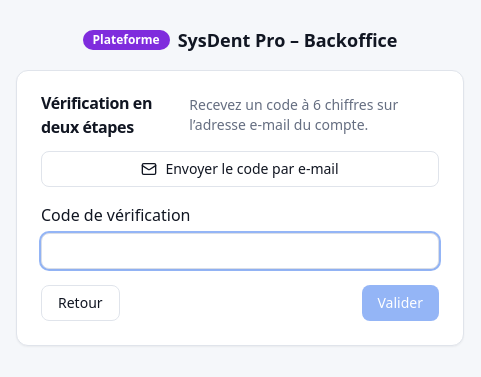
Scenario: 2FA par e-mail › un envoi refuse par le serveur reste affiche
Click the button "Envoyer le code par e-mail": (240, 169) [41, 151, 439, 187]
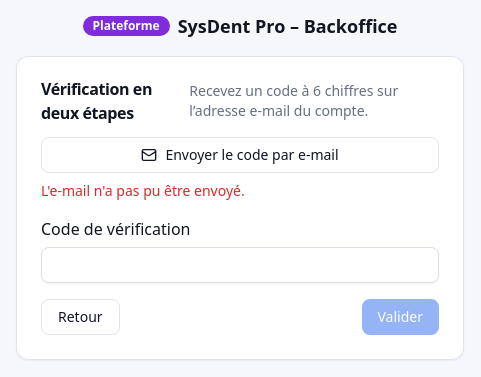
Check: the message reads "L'e-mail n'a pas pu être envoyé.", box [41, 181, 245, 200]
